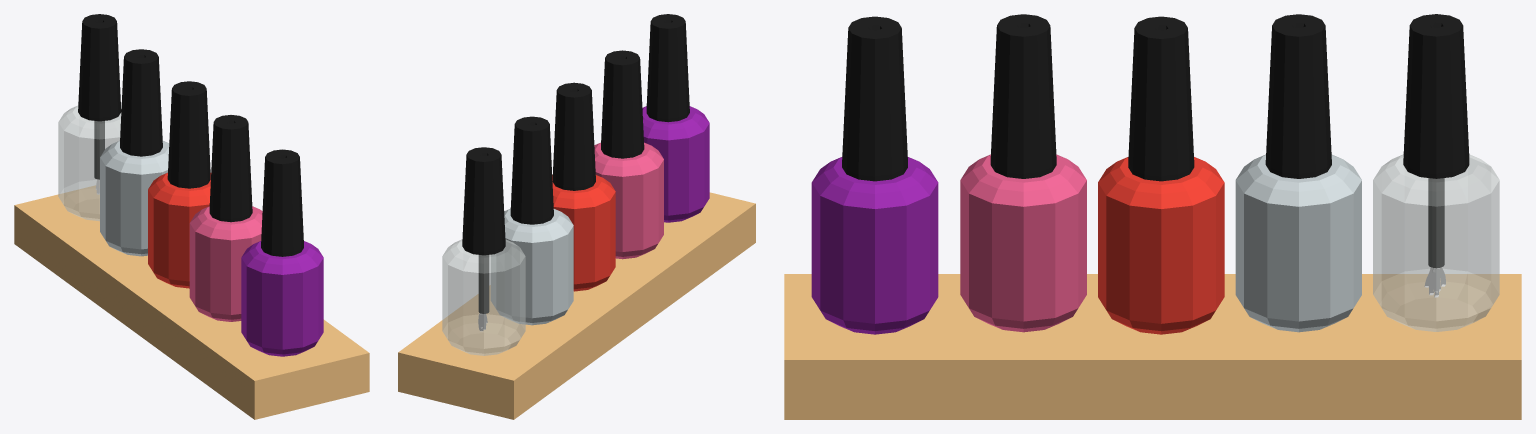
File: Nail Polish.glb
3 views of the same model, side by side, from view 1: azimuth 30°, elevation 25°; view 2: azimuth 150°, elevation 25°; view 3: azimuth 270°, elevation 25° (orthographic). The views are drawn at different scales.
Parts seen in each view (by area): view 1: Node; view 2: Node; view 3: Node.
Part boxes in pixels (box(x1,y1,x2,y2)): Node: box(14, 14, 369, 419); Node: box(398, 14, 755, 419); Node: box(784, 14, 1521, 419).
Bounding box in the file's own units: 0.37 × 0.705 × 1.34.
